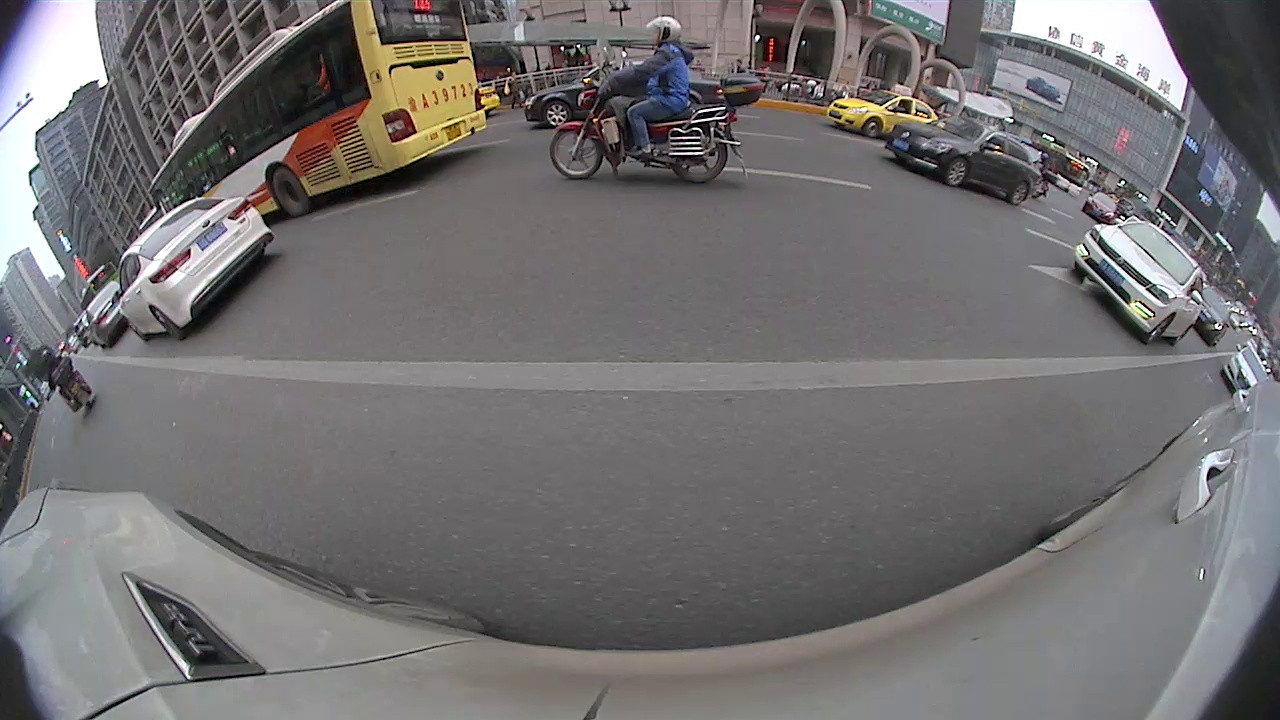bus: (148, 1, 487, 251)
car: (114, 189, 274, 350), (523, 58, 772, 150), (1070, 221, 1208, 353), (886, 117, 1041, 213), (822, 90, 941, 146), (80, 280, 141, 350), (1221, 338, 1274, 406), (1186, 283, 1234, 348)
front: (547, 120, 603, 179), (1144, 312, 1174, 347), (543, 102, 572, 129), (945, 158, 968, 191), (863, 119, 882, 140)
rear: (672, 142, 730, 186), (268, 168, 310, 216), (1007, 178, 1030, 207)
rider: (550, 13, 746, 188), (31, 347, 97, 420)
